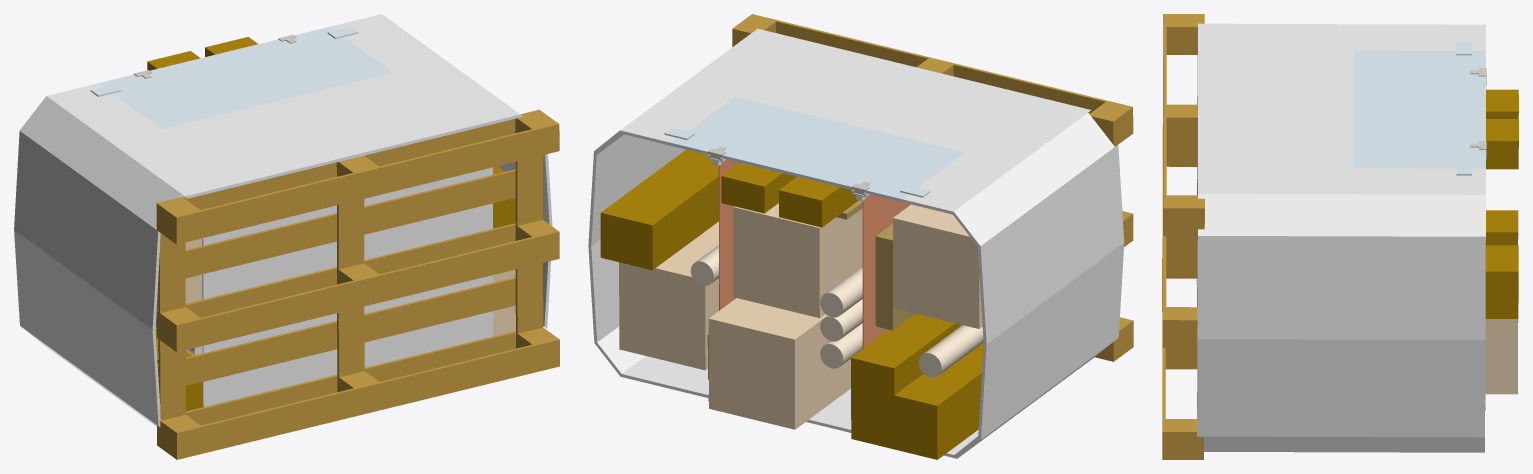
Rendered from ceinture complète baillement.glb.
3 views of the same model, side by side, from view 1: azimuth 30°, elevation 25°; view 2: azimuth 150°, elevation 25°; view 3: azimuth 270°, elevation 25° (orthographic). The views are drawn at different scales.
Visible parts, largest first — view 1: Part 3, Part 2, Part 1 (×4); view 2: Part 1 (×23), Part 3, Part 2, Part 4 (×2); view 3: Part 3, Part 1 (×7), Part 2.
Boxes of the visible parts, box(x1,y1,x2,y2) form: Part 3: box(14, 14, 552, 427); Part 2: box(156, 109, 559, 459); Part 1 (×4): box(90, 26, 515, 336); Part 1 (×23): box(600, 96, 983, 459); Part 3: box(588, 28, 1124, 458); Part 2: box(732, 14, 1133, 361); Part 4 (×2): box(718, 159, 910, 348); Part 3: box(1196, 23, 1485, 452); Part 1 (×7): box(1354, 42, 1518, 394); Part 2: box(1162, 14, 1204, 459).
Bounding box in the file's own units: 1.39 × 0.8361 × 1.03.
